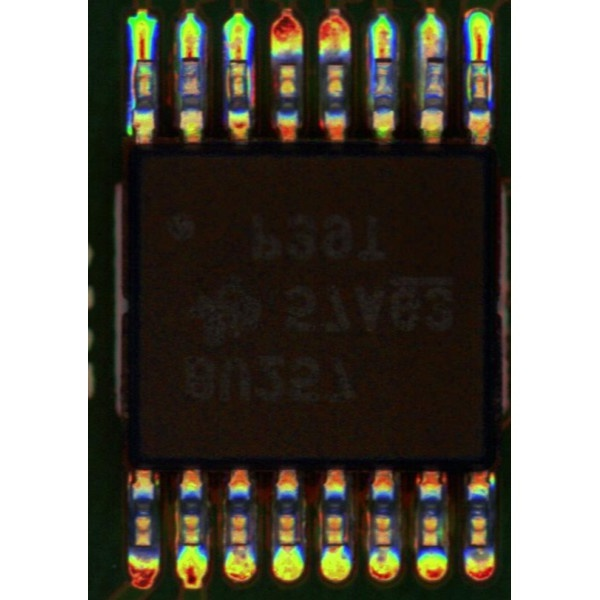Bad_podu: (325, 536, 343, 554), (181, 51, 200, 67), (230, 537, 248, 552), (427, 49, 441, 68), (375, 53, 391, 68), (279, 537, 294, 553), (471, 55, 489, 68), (136, 52, 149, 68), (231, 55, 245, 68)
Bad_qiaojiao: (125, 63, 134, 138)
